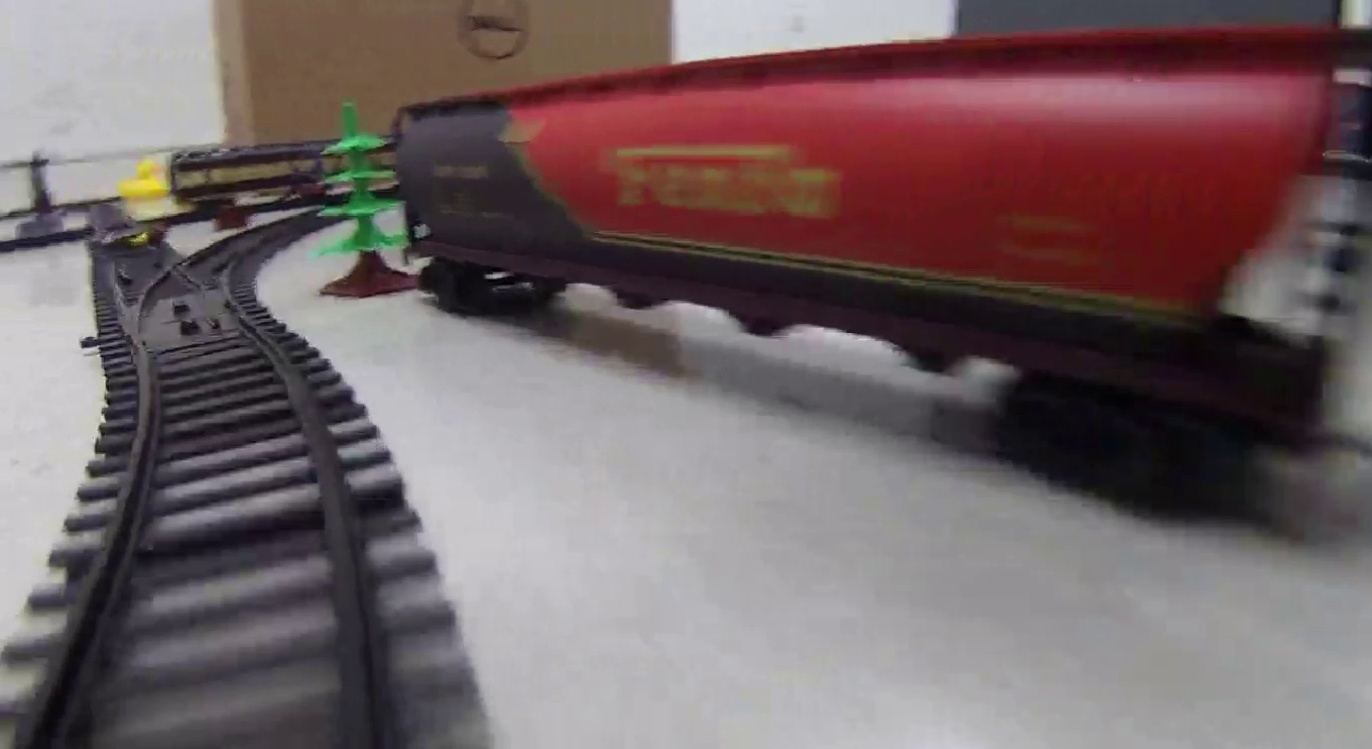tree: (314, 101, 402, 303)
